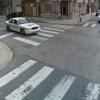Crosswalk: (6, 54, 94, 100)
